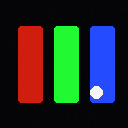2 circle: (90, 86, 102, 98)
